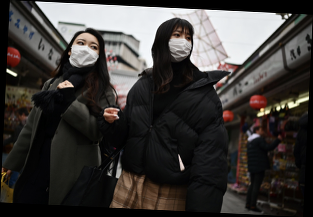with_mask: (69, 36, 101, 67), (167, 28, 193, 62)
